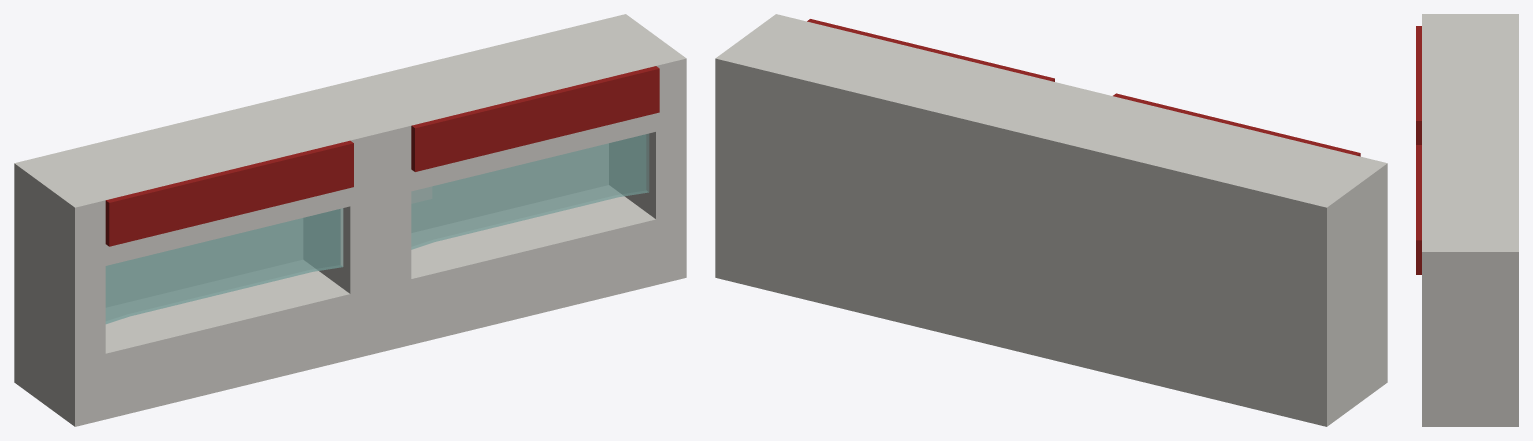
Rendered from vetanilla.fbx.
3 renders of one model, left to right at view 1: azimuth 30°, elevation 25°; view 2: azimuth 150°, elevation 25°; view 3: azimuth 270°, elevation 25°, orthographic. The views are drawn at different scales.
Parts seen in each view (by area): view 1: ventanillaHackaton:ventanilla2; view 2: ventanillaHackaton:ventanilla2; view 3: ventanillaHackaton:ventanilla2.
Part boxes in pixels (x1,y1,x2,y2): ventanillaHackaton:ventanilla2: (14,14,686,426); ventanillaHackaton:ventanilla2: (715,14,1387,426); ventanillaHackaton:ventanilla2: (1416,14,1518,426).
Size of the model in its own units: 96.71 by 33.13 by 17.65.
